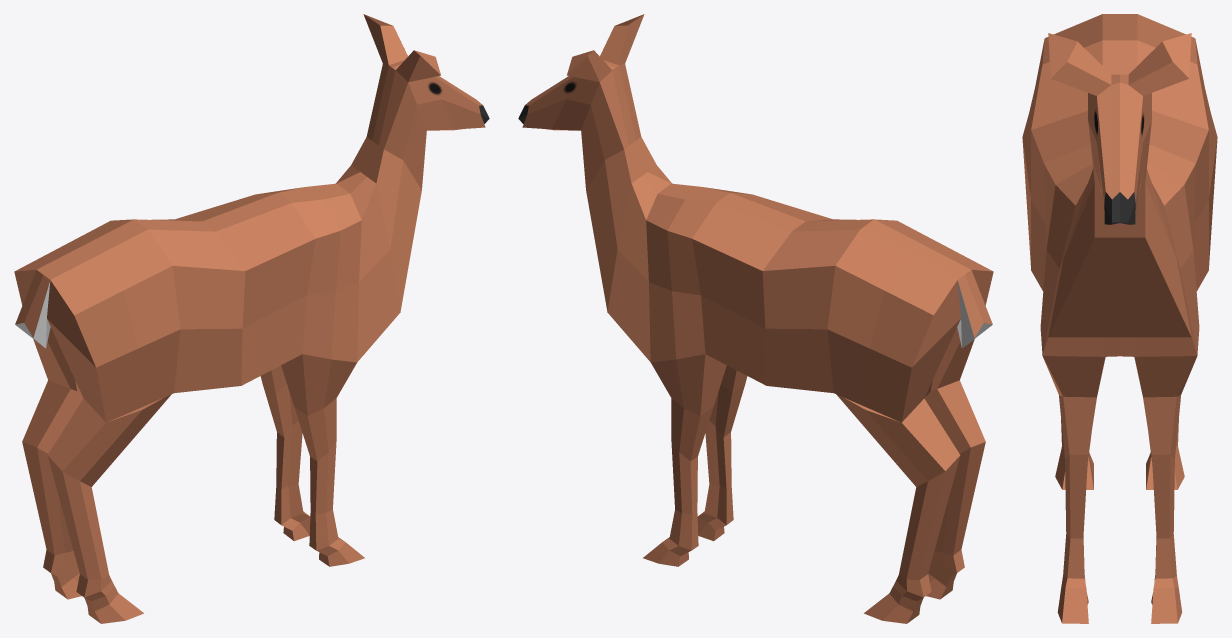
Rendered from deerTest.fbx.
3 views of the same model, side by side, from view 1: azimuth 30°, elevation 25°; view 2: azimuth 150°, elevation 25°; view 3: azimuth 270°, elevation 25° (orthographic). The views are drawn at different scales.
Parts seen in each view (by area): view 1: Plane; view 2: Plane; view 3: Plane.
Boxes of the visible parts, x1,y1,x2,y2 form: Plane: (14, 14, 489, 623); Plane: (518, 14, 993, 623); Plane: (1022, 14, 1217, 623).
Size of the model in its own units: 125 by 128 by 36.35.
1 material, 1 textured.
